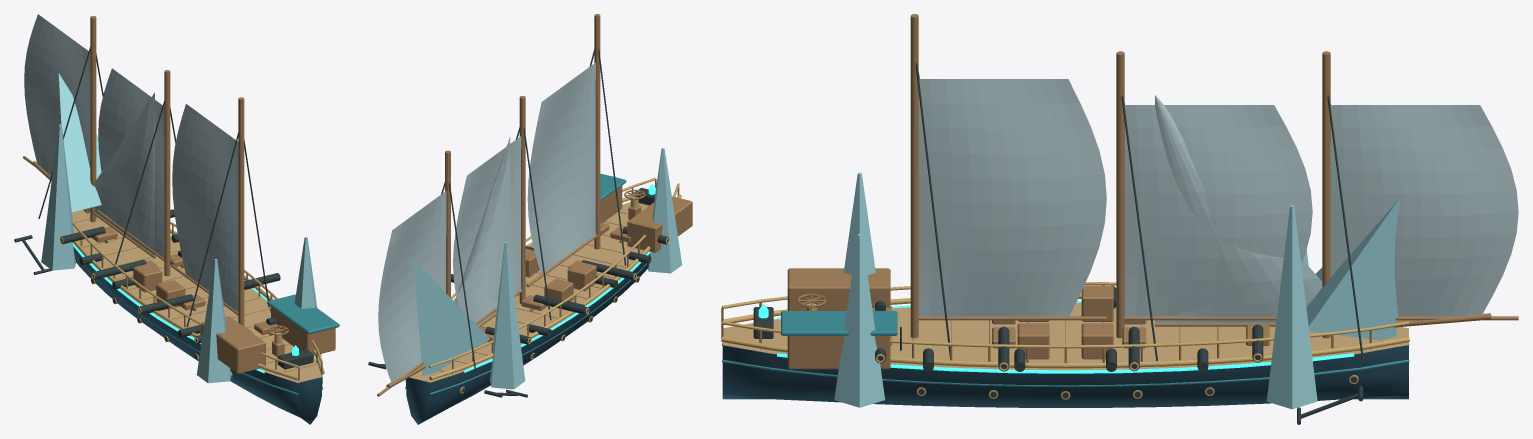
Rendered from premium_ghost_frigate.glb.
3 views of the same model, side by side, from view 1: azimuth 30°, elevation 25°; view 2: azimuth 150°, elevation 25°; view 3: azimuth 270°, elevation 25° (orthographic). The views are drawn at different scales.
Parts seen in each view (by area): view 1: premium_ghost_frigate; view 2: premium_ghost_frigate; view 3: premium_ghost_frigate.
Part boxes in pixels (left/top/right/bottom): premium_ghost_frigate: left=14, top=14, right=339, bottom=424; premium_ghost_frigate: left=368, top=14, right=692, bottom=424; premium_ghost_frigate: left=721, top=14, right=1518, bottom=424.
Bounding box in the file's own units: 4.91 × 9.25 × 17.43.
